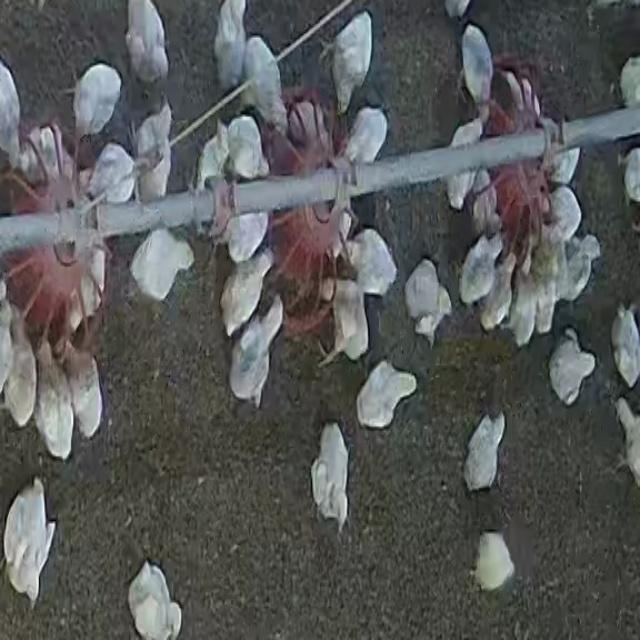chicken: (226, 295, 286, 408), (3, 480, 57, 604), (314, 9, 377, 112), (314, 276, 374, 366), (58, 337, 108, 444), (311, 420, 354, 542), (128, 226, 194, 304), (34, 338, 76, 459), (244, 34, 292, 138), (219, 249, 275, 337), (352, 358, 419, 430), (2, 305, 39, 431), (402, 259, 453, 349), (133, 100, 177, 204), (128, 562, 184, 639), (72, 61, 122, 144), (445, 114, 487, 212), (64, 250, 110, 334), (548, 329, 598, 406), (459, 20, 500, 111), (463, 410, 508, 492), (347, 227, 397, 299), (470, 527, 518, 601), (457, 230, 504, 305), (86, 141, 136, 206), (341, 106, 390, 172), (225, 112, 273, 175), (562, 232, 602, 306), (507, 264, 542, 344), (478, 255, 514, 332), (226, 206, 270, 264), (545, 183, 583, 250), (610, 307, 640, 390), (195, 126, 226, 194)
